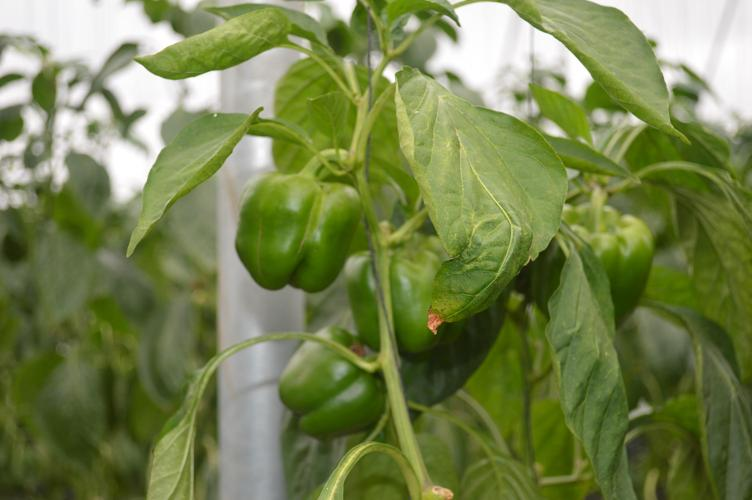BellPepper: (531, 206, 660, 335), (224, 176, 351, 303), (367, 230, 481, 344), (271, 348, 377, 454)
